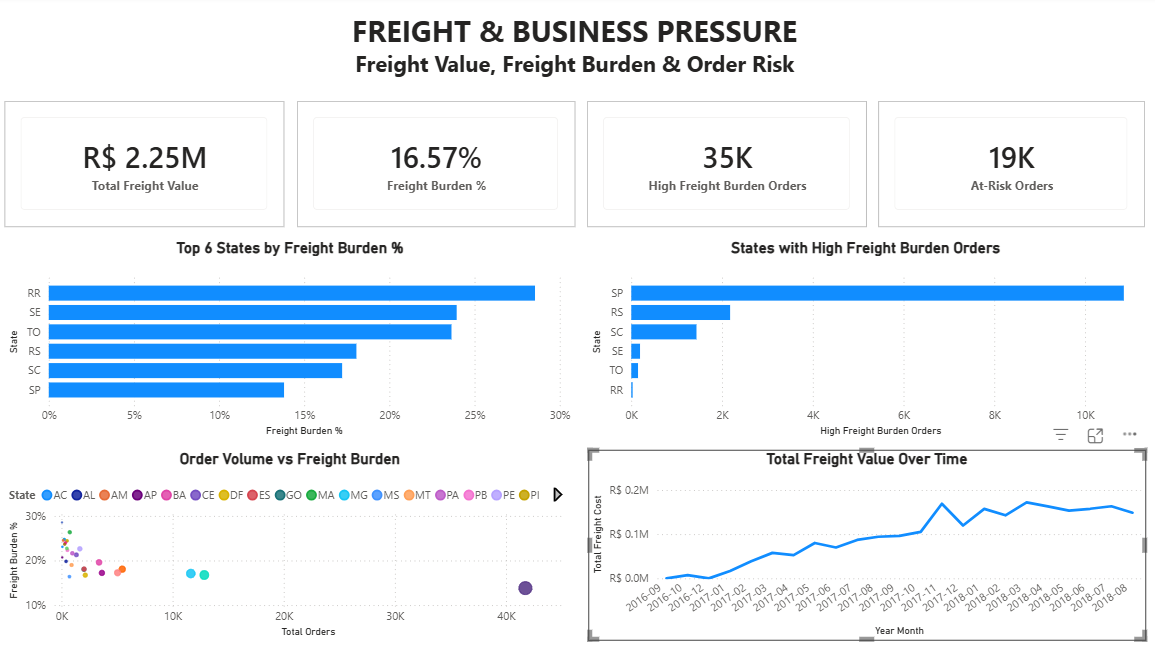

What the dashboard file says about the page in this screenshot:
{"tool":"powerbi","page":{"name":"Freight & Business Pressure","canvas":[1280,720],"ordinal":2},"visuals":[{"type":"textbox","box":[13.4,10.4,1252,86.5],"z":0},{"type":"cardVisual","fields":{"Data":["Business Pressure Measures.Total Freight Cost"]},"box":[13.4,114.9,307.4,138.8],"z":1000},{"type":"cardVisual","fields":{"Data":["Business Pressure Measures.Freight Burden %"]},"box":[334.3,114.9,305.9,138.8],"z":2000},{"type":"cardVisual","fields":{"Data":["Business Pressure Measures.High Freight Burden Orders"]},"box":[653.6,114.9,307.4,138.8],"z":3000},{"type":"cardVisual","fields":{"Data":["Business Pressure Measures.At-Risk Orders"]},"box":[972.9,114.9,292.5,138.8],"z":4000},{"type":"clusteredBarChart","title":"Top 6 States by Freight Burden %","fields":{"Category":["swiftcart_order_analysis.customer_state"],"Y":["Business Pressure Measures.Freight Burden %"]},"box":[13.4,265.6,626.7,222.3],"z":5000},{"type":"clusteredBarChart","title":"States with High Freight Burden Orders","fields":{"Category":["swiftcart_order_analysis.customer_state"],"Y":["Business Pressure Measures.High Freight Burden Orders"]},"box":[653.6,265.6,611.8,222.3],"z":6000},{"type":"scatterChart","title":"Order Volume vs Freight Burden","fields":{"X":["Revenue & Sales measures.Total Orders"],"Y":["Business Pressure Measures.Freight Burden %"],"Size":["Business Pressure Measures.High Freight Burden Orders"],"Series":["swiftcart_order_analysis.customer_state"]},"box":[13.4,498.4,626.7,210.4],"z":7000},{"type":"lineChart","title":"Total Freight Cost Over Time","fields":{"Y":["Business Pressure Measures.Total Freight Cost"],"Category":["Date.Year Month"]},"box":[654,498,612,210],"z":8000}]}

Visuals, with their boxes in screenshot pixels (x1, y1, x2, y2), scaled from the page's 1280x720 canvas onto the 1155x649 screenshot:
textbox: (12, 9, 1142, 87)
cardVisual - Business Pressure Measures.Total Freight Cost: (12, 104, 289, 229)
cardVisual - Business Pressure Measures.Freight Burden %: (302, 104, 578, 229)
cardVisual - Business Pressure Measures.High Freight Burden Orders: (590, 104, 867, 229)
cardVisual - Business Pressure Measures.At-Risk Orders: (878, 104, 1142, 229)
"Top 6 States by Freight Burden %" clusteredBarChart: (12, 239, 578, 440)
"States with High Freight Burden Orders" clusteredBarChart: (590, 239, 1142, 440)
"Order Volume vs Freight Burden" scatterChart: (12, 449, 578, 639)
"Total Freight Cost Over Time" lineChart: (590, 449, 1142, 638)
